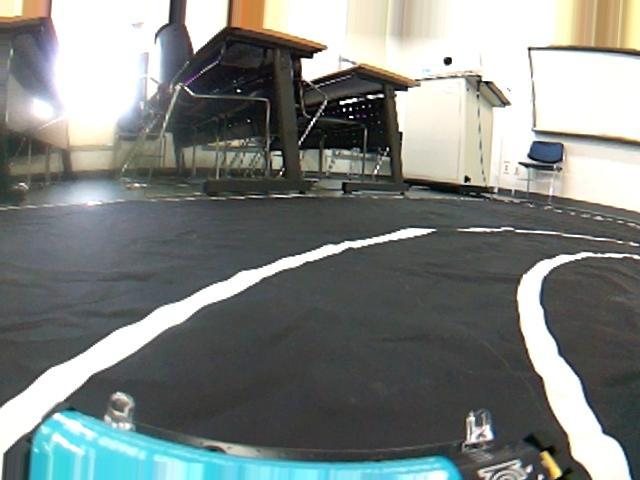right: (4, 220, 631, 477)
